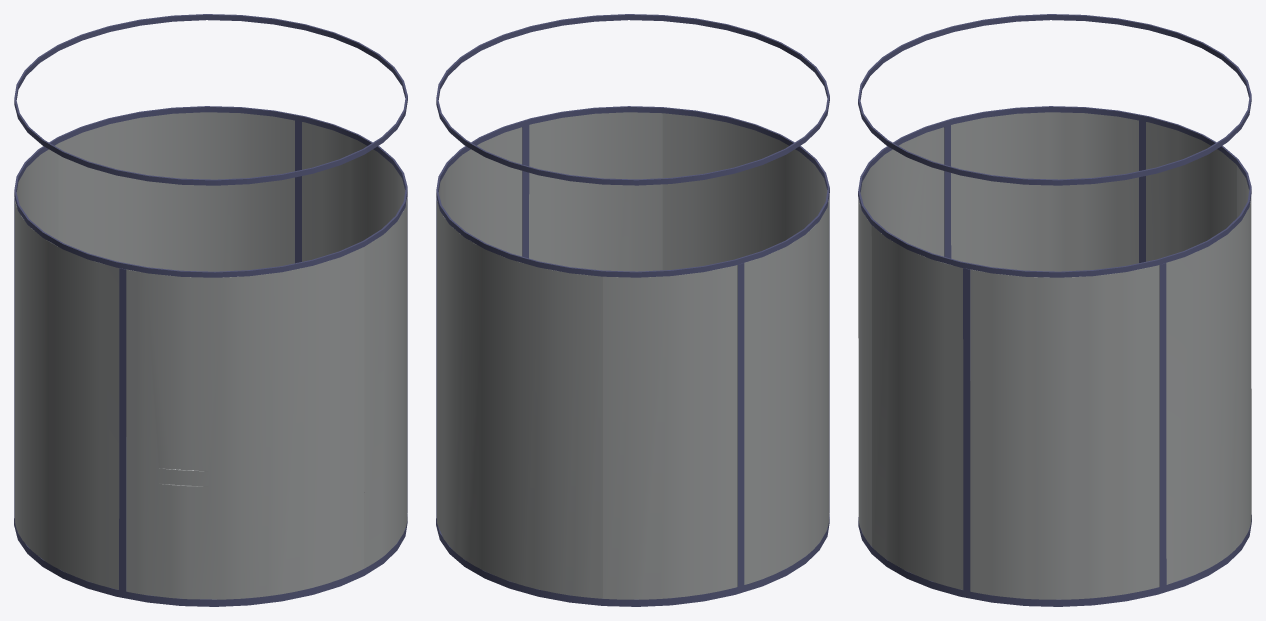
File: Drone Area.fbx
The picture shows the model from 3 angles, left to right: view 1: azimuth 30°, elevation 25°; view 2: azimuth 150°, elevation 25°; view 3: azimuth 270°, elevation 25°; orthographic projection.
Parts seen in each view (by area): view 1: Drone_Area; view 2: Drone_Area; view 3: Drone_Area.
Part boxes in pixels (<box>): Drone_Area: <box>14,14,407,606</box>; Drone_Area: <box>436,14,829,606</box>; Drone_Area: <box>858,14,1251,606</box>.
Bounding box in the file's own units: 1008 × 1206 × 1008.
